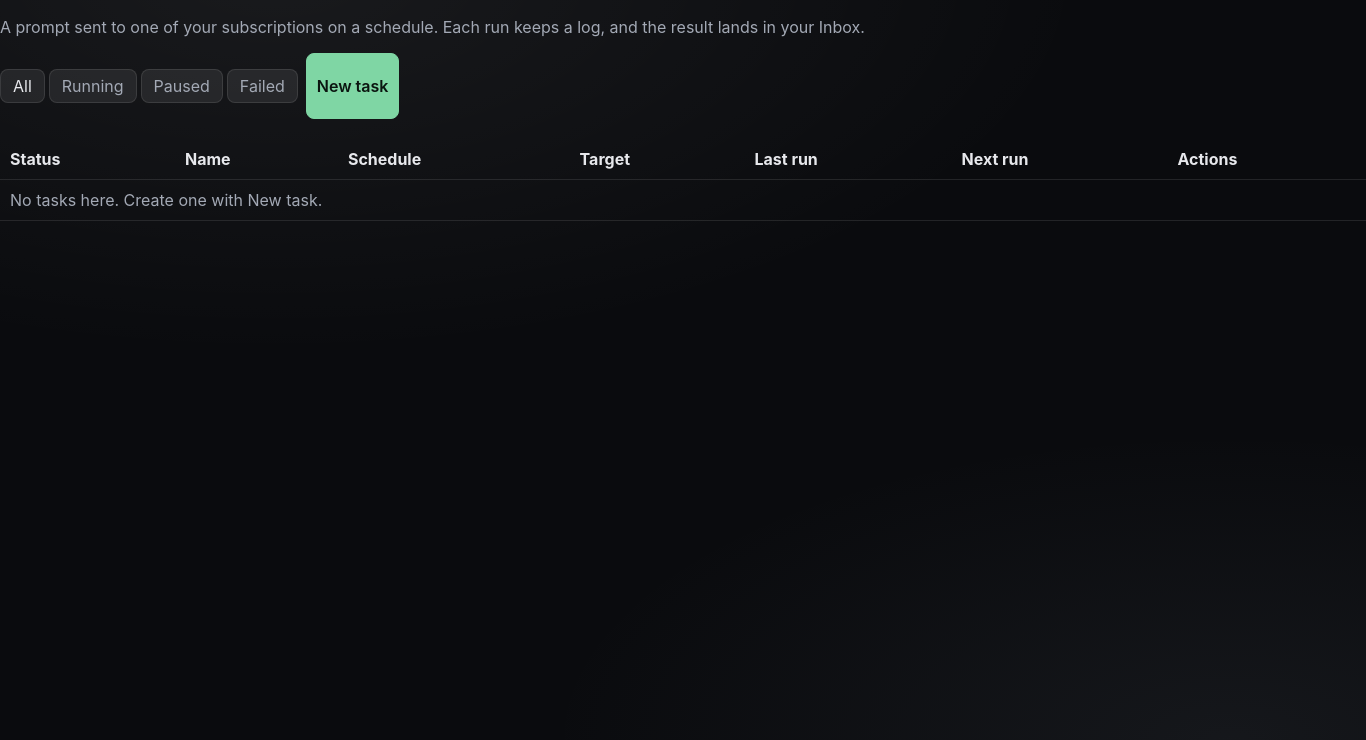
Test: creating a task › shows why a schedule is refused and will not let it be saved
Click the button "New task": (353, 86) [306, 53, 399, 119]
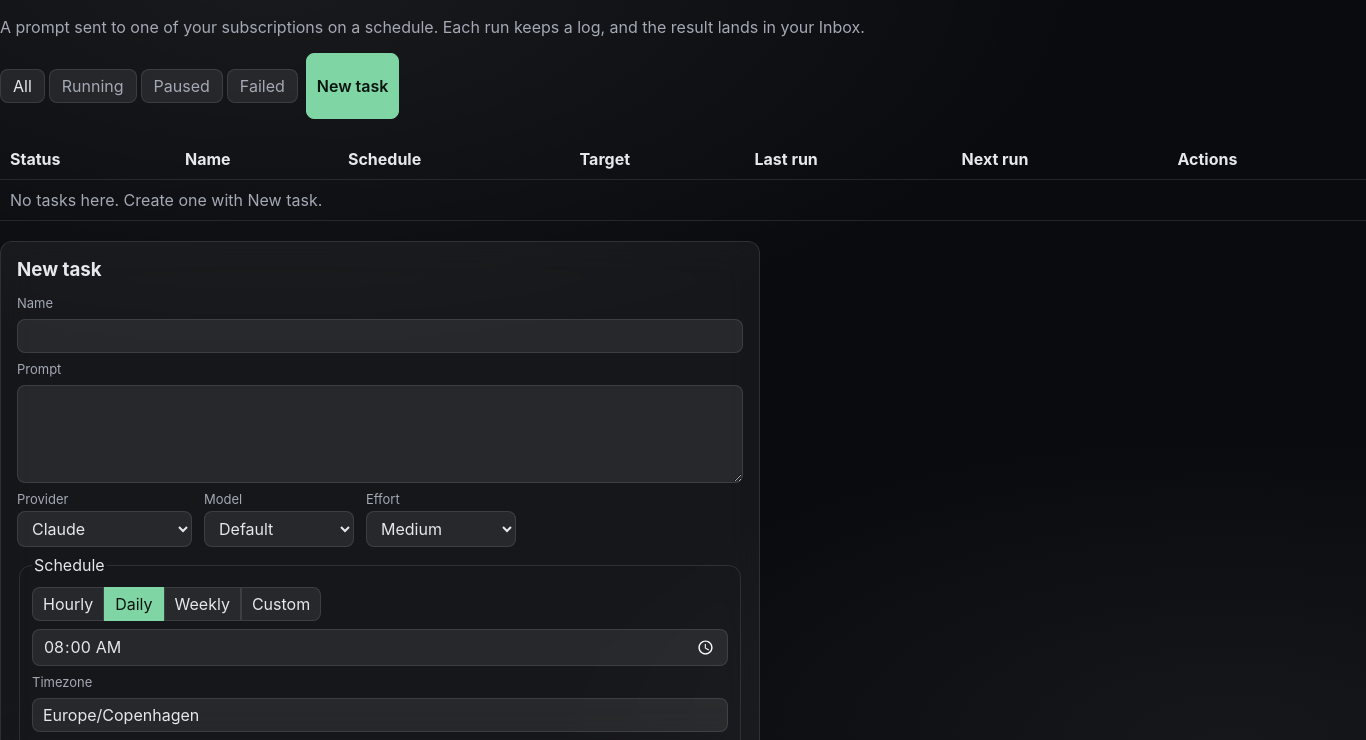
In the field labelled "Name": (380, 336) [17, 319, 743, 353], type "Briefing"
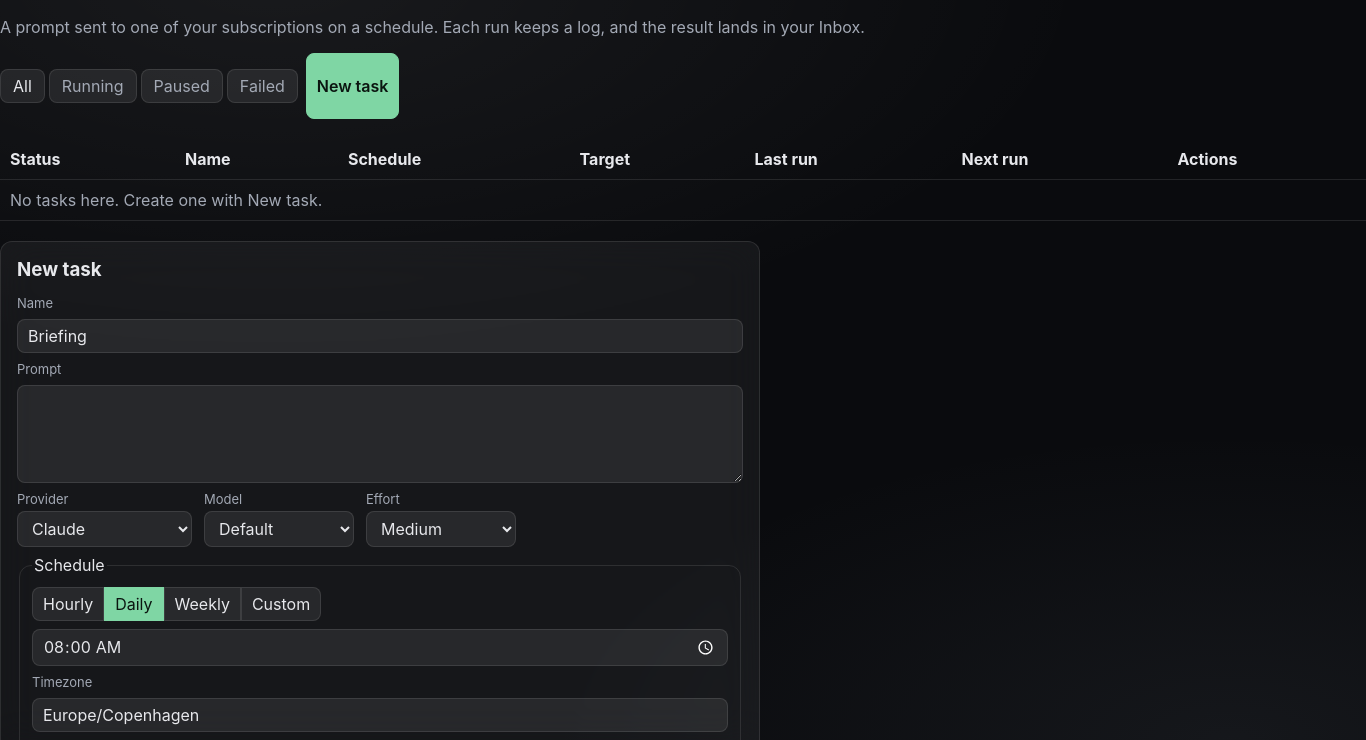
In the text box labelled "Prompt": (380, 434) [17, 385, 743, 483], type "Summarise the news"
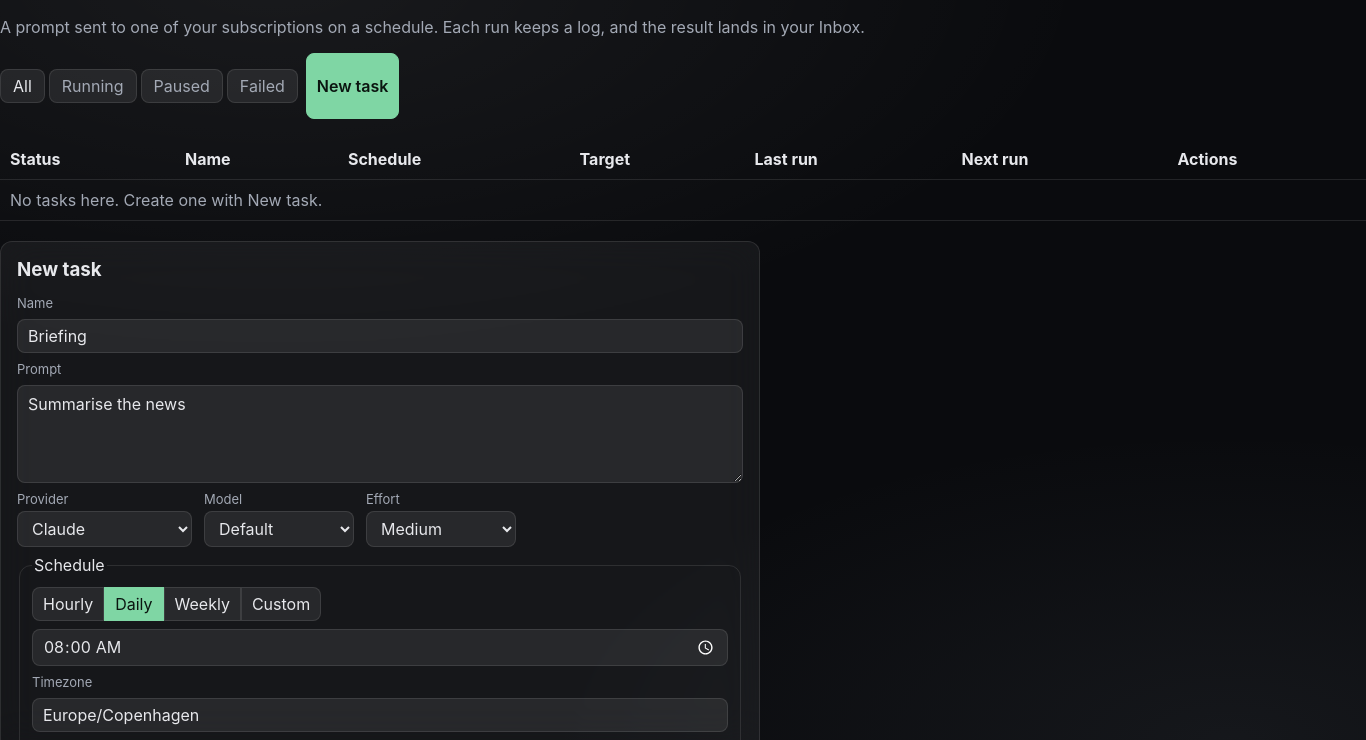
Click the button "Custom": (281, 604) [241, 587, 321, 621]
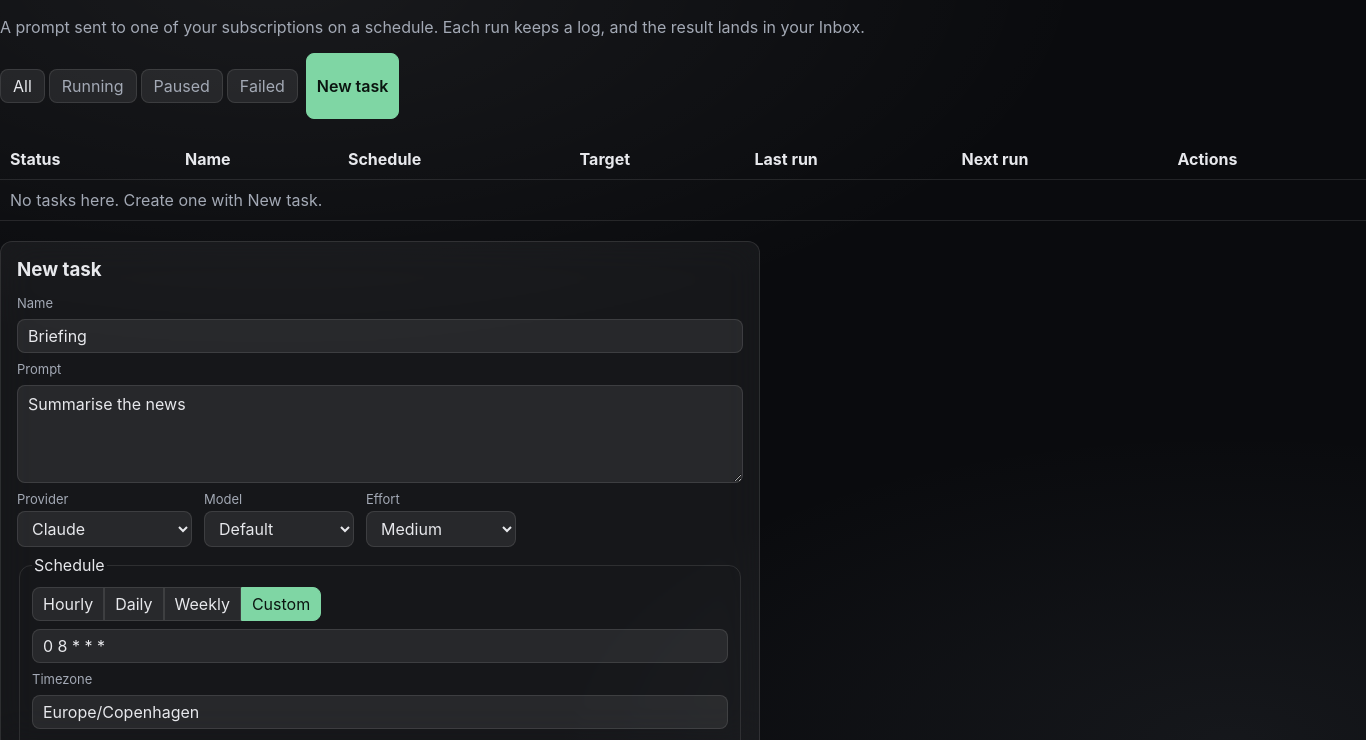
Replace the text in the field named "Cron expression" with "*/5 * * * *": (380, 646) [32, 629, 728, 663]
(page scrolled)
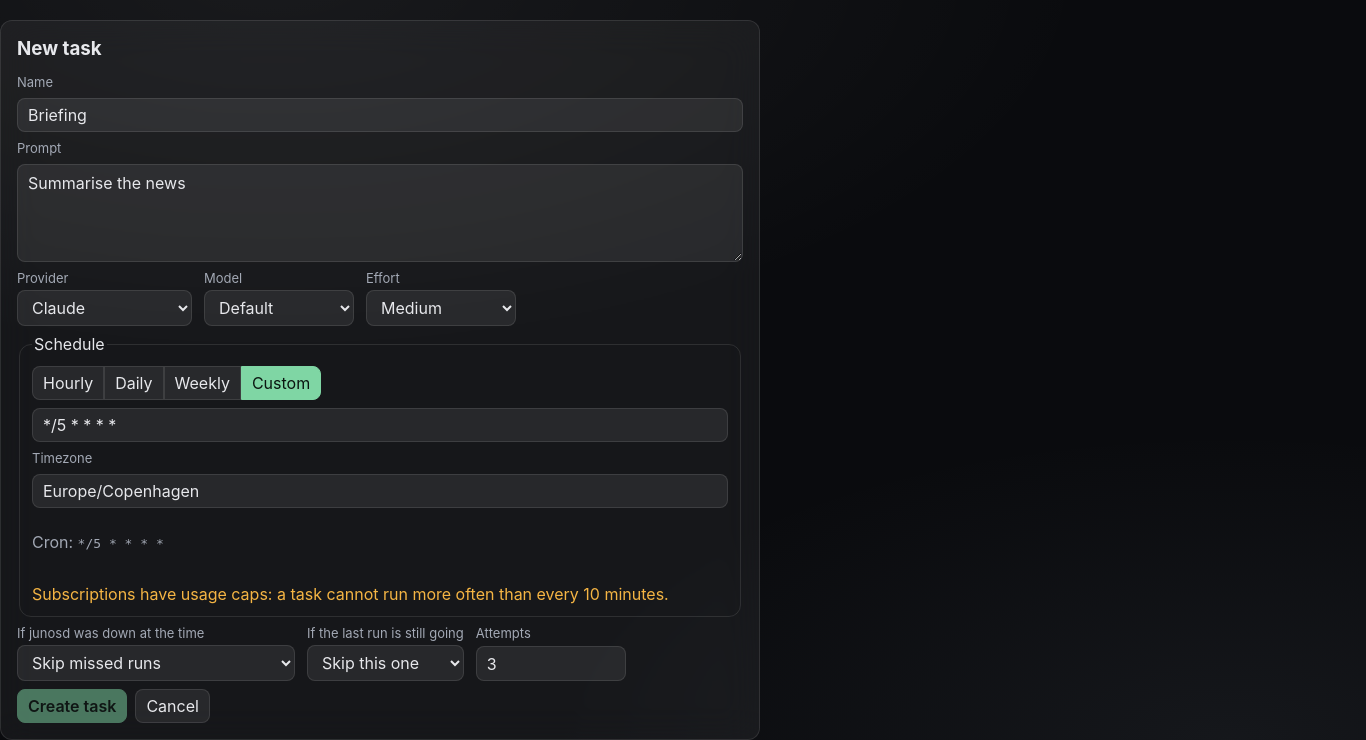
Expected: the text "more often than every 10 minutes" is shown, [32, 584, 669, 604]
Expected: the button "Create task" is disabled, [17, 689, 127, 723]
